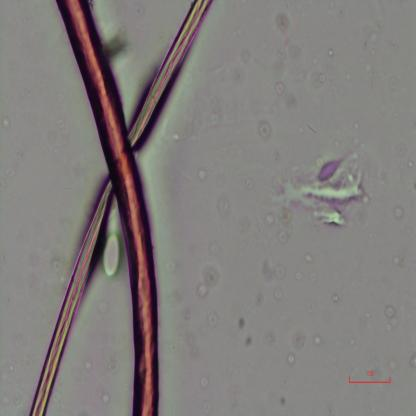Background material: (276, 144, 375, 228), (231, 38, 260, 98), (266, 204, 296, 245), (193, 266, 223, 302), (102, 231, 123, 282), (106, 27, 132, 66), (382, 305, 399, 332), (217, 192, 232, 221), (256, 119, 274, 141), (384, 253, 407, 270), (391, 202, 408, 225), (292, 328, 307, 353), (275, 14, 292, 33), (260, 260, 274, 282), (273, 264, 289, 281), (323, 40, 338, 58), (206, 310, 220, 329), (96, 386, 109, 405), (196, 168, 210, 184), (300, 251, 314, 266), (275, 81, 287, 97), (236, 314, 246, 332), (0, 115, 12, 129), (313, 333, 324, 348), (314, 74, 327, 86), (272, 288, 283, 302), (287, 352, 295, 370), (243, 334, 253, 348), (200, 377, 211, 389), (408, 354, 416, 369), (294, 271, 304, 281), (245, 180, 255, 190), (331, 293, 339, 305)
Microfibre: (54, 0, 160, 416), (29, 180, 114, 415), (127, 0, 214, 146)
